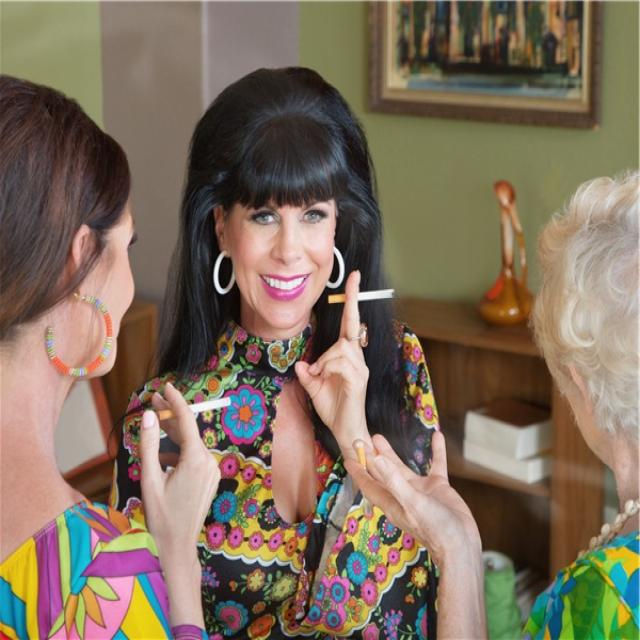smoking: (156, 394, 231, 422), (327, 287, 399, 306), (354, 438, 370, 520)
